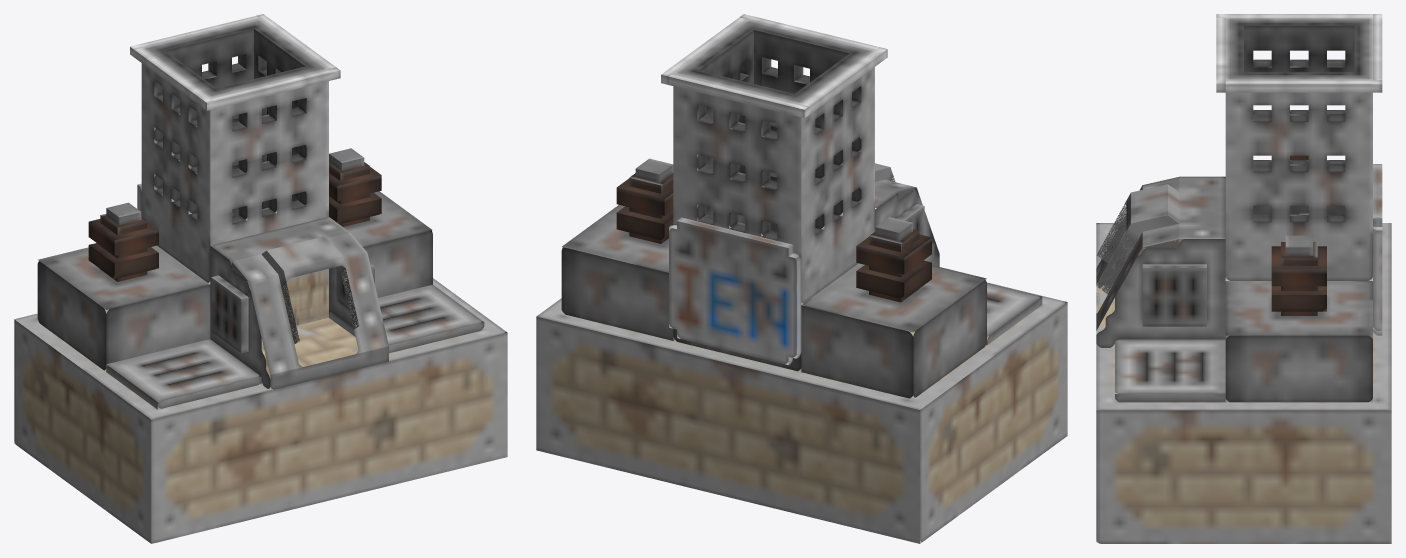
File: burner.obj
3 renders of one model, left to right at view 1: azimuth 30°, elevation 25°; view 2: azimuth 150°, elevation 25°; view 3: azimuth 270°, elevation 25°, orthographic. The views are drawn at different scales.
Visible parts, largest first — view 1: Insulation_3; view 2: Insulation_3; view 3: Insulation_3.
Boxes of the visible parts, x1,y1,x2,y2 form: Insulation_3: (14, 14, 507, 543); Insulation_3: (536, 14, 1067, 543); Insulation_3: (1096, 14, 1391, 543).
Bounding box in the file's own units: 3 × 3 × 2.
